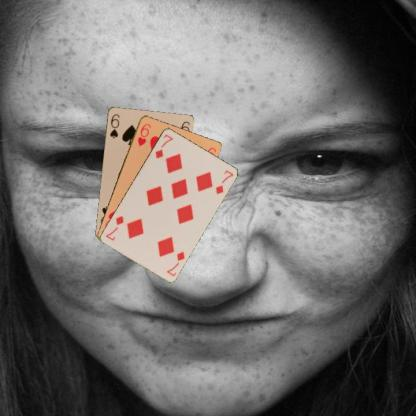6h: (135, 121, 152, 147)
6s: (107, 111, 121, 139)
7d: (164, 248, 186, 278), (152, 131, 174, 160)
